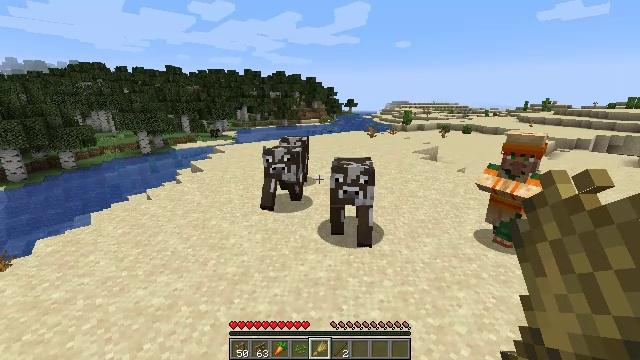cow: (329, 158, 374, 247), (263, 145, 305, 200), (209, 128, 220, 138)
